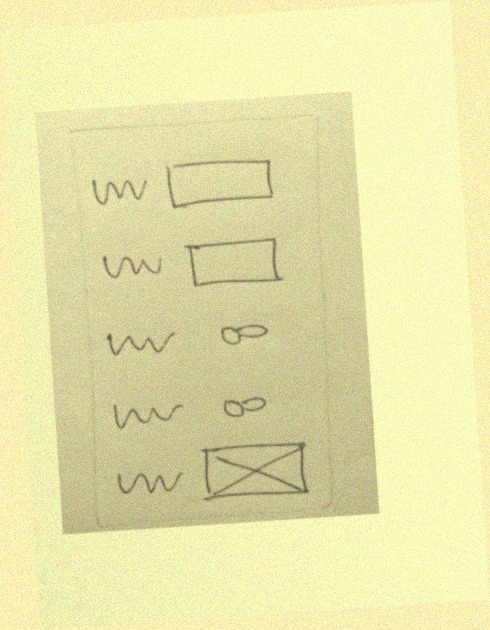image: (193, 433, 317, 509)
switch: (213, 313, 276, 353), (213, 386, 277, 424)
text: (99, 320, 186, 363), (96, 243, 171, 292), (108, 392, 191, 435), (109, 459, 188, 502), (84, 165, 155, 211)
text_input: (157, 147, 286, 214), (178, 229, 294, 295)
